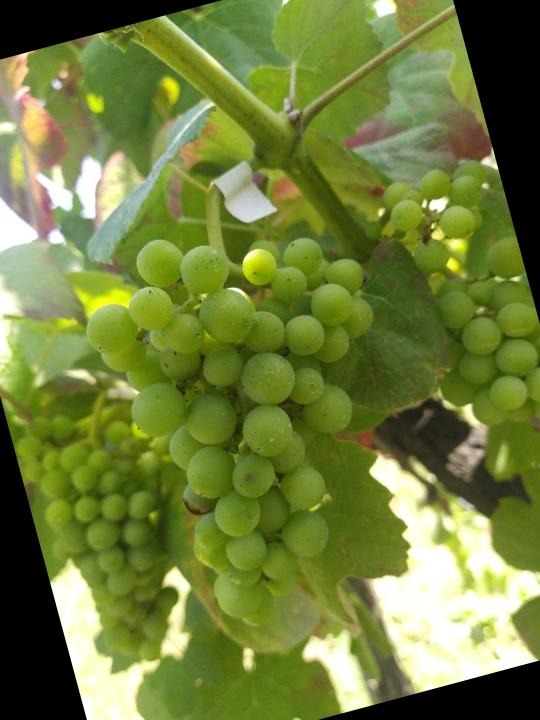grape: (59, 185, 445, 652), (12, 385, 223, 682)
